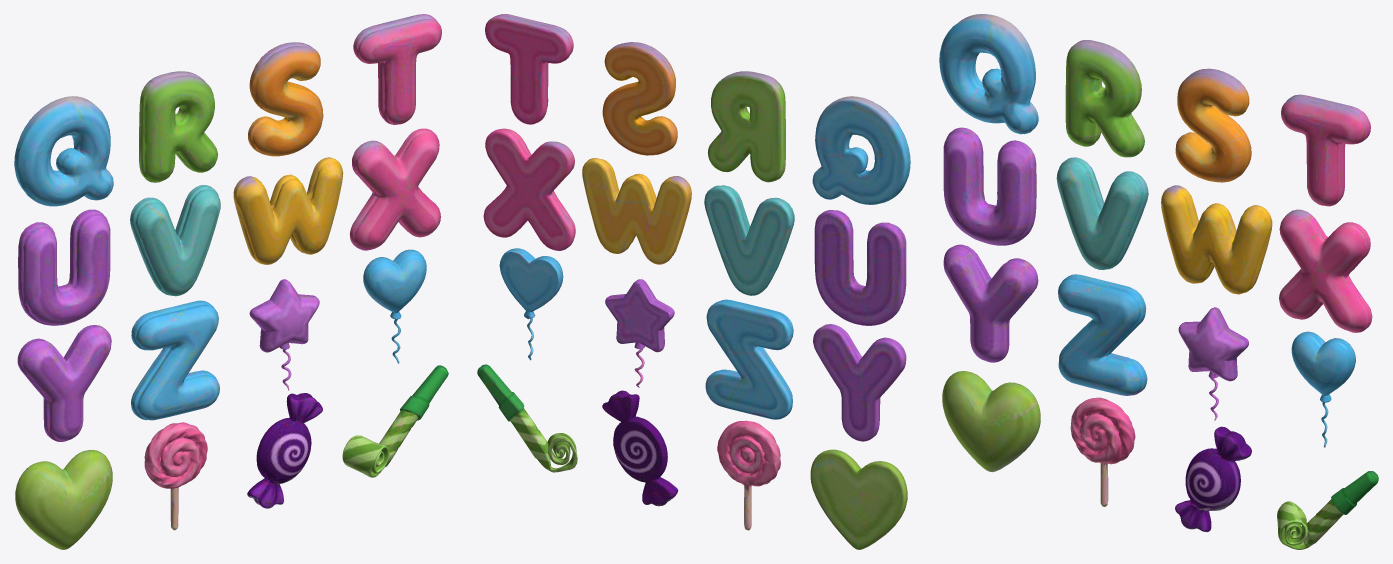
3 views of the same model, side by side, from view 1: azimuth 30°, elevation 25°; view 2: azimuth 150°, elevation 25°; view 3: azimuth 330°, elevation 25° (orthographic).
Parts seen in each view (by area): view 1: Mesh 1, Mesh 4, Mesh 6, Mesh 9, Mesh 14, Mesh 7, Mesh 2, Mesh 11, Mesh 5, Mesh 3, Mesh 15, Mesh 10 (+4 smaller); view 2: Mesh 1, Mesh 4, Mesh 6, Mesh 14, Mesh 9, Mesh 7, Mesh 2, Mesh 11, Mesh 5, Mesh 3, Mesh 15, Mesh 10 (+4 smaller); view 3: Mesh 1, Mesh 4, Mesh 9, Mesh 14, Mesh 6, Mesh 7, Mesh 2, Mesh 11, Mesh 5, Mesh 3, Mesh 15, Mesh 10 (+4 smaller).
Part boxes in pixels (box(x1,y1,x2,y2)): Mesh 1: box(14, 96, 113, 206); Mesh 4: box(18, 209, 110, 325); Mesh 6: box(131, 300, 219, 420); Mesh 9: box(233, 157, 343, 264); Mesh 14: box(349, 128, 440, 250); Mesh 7: box(139, 71, 217, 182); Mesh 2: box(15, 450, 112, 549); Mesh 11: box(248, 42, 323, 156); Mesh 5: box(130, 185, 220, 296); Mesh 3: box(17, 325, 111, 441); Mesh 15: box(353, 14, 441, 124); Mesh 10: box(247, 393, 322, 508); Mesh 1: box(812, 96, 910, 204); Mesh 4: box(814, 210, 906, 325); Mesh 6: box(705, 299, 793, 419); Mesh 14: box(483, 128, 575, 250); Mesh 9: box(582, 158, 691, 264); Mesh 7: box(708, 71, 785, 182); Mesh 2: box(810, 449, 907, 549); Mesh 11: box(602, 42, 677, 155); Mesh 5: box(704, 185, 794, 295); Mesh 3: box(813, 324, 906, 441); Mesh 15: box(485, 14, 573, 124); Mesh 10: box(602, 390, 678, 506); Mesh 1: box(939, 14, 1038, 134); Mesh 4: box(943, 127, 1036, 245); Mesh 9: box(1161, 185, 1272, 294); Mesh 14: box(1279, 209, 1372, 332); Mesh 6: box(1058, 274, 1147, 395); Mesh 7: box(1065, 40, 1144, 157); Mesh 2: box(942, 371, 1040, 472); Mesh 11: box(1175, 68, 1251, 182); Mesh 5: box(1056, 157, 1148, 269); Mesh 3: box(943, 244, 1038, 362); Mesh 15: box(1281, 94, 1370, 206); Mesh 10: box(1175, 426, 1251, 532).
Size of the model in its own units: 1.87 by 1.9 by 0.1096.
16 materials, 16 textured.
